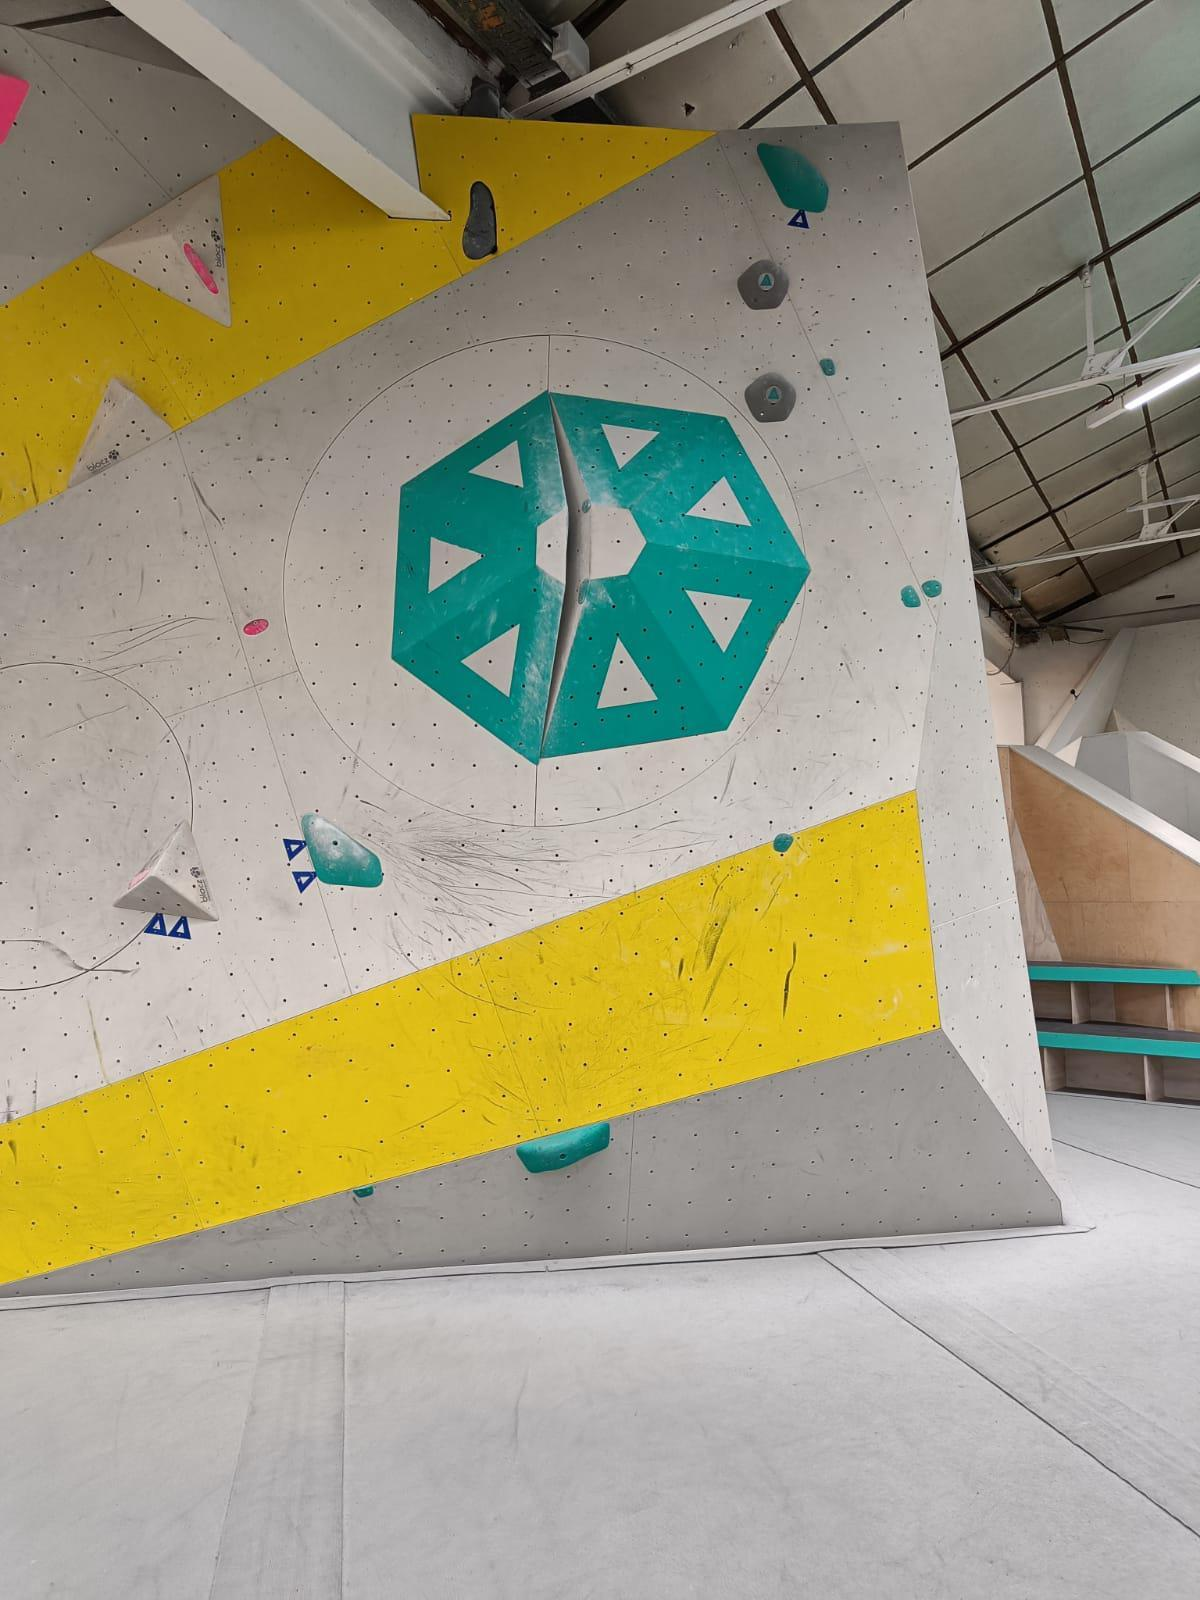hold: (539, 392, 812, 758), (391, 391, 568, 765), (301, 813, 383, 887), (758, 142, 829, 213), (516, 1121, 610, 1173), (744, 372, 797, 422), (737, 260, 790, 310), (463, 181, 495, 260), (0, 72, 30, 145), (183, 243, 219, 294), (127, 868, 151, 889), (901, 585, 921, 607), (243, 619, 268, 635), (773, 833, 794, 852), (921, 580, 943, 597), (819, 358, 836, 377), (353, 1184, 374, 1198)
volume: (91, 175, 232, 328), (67, 377, 173, 489), (112, 819, 219, 921)
